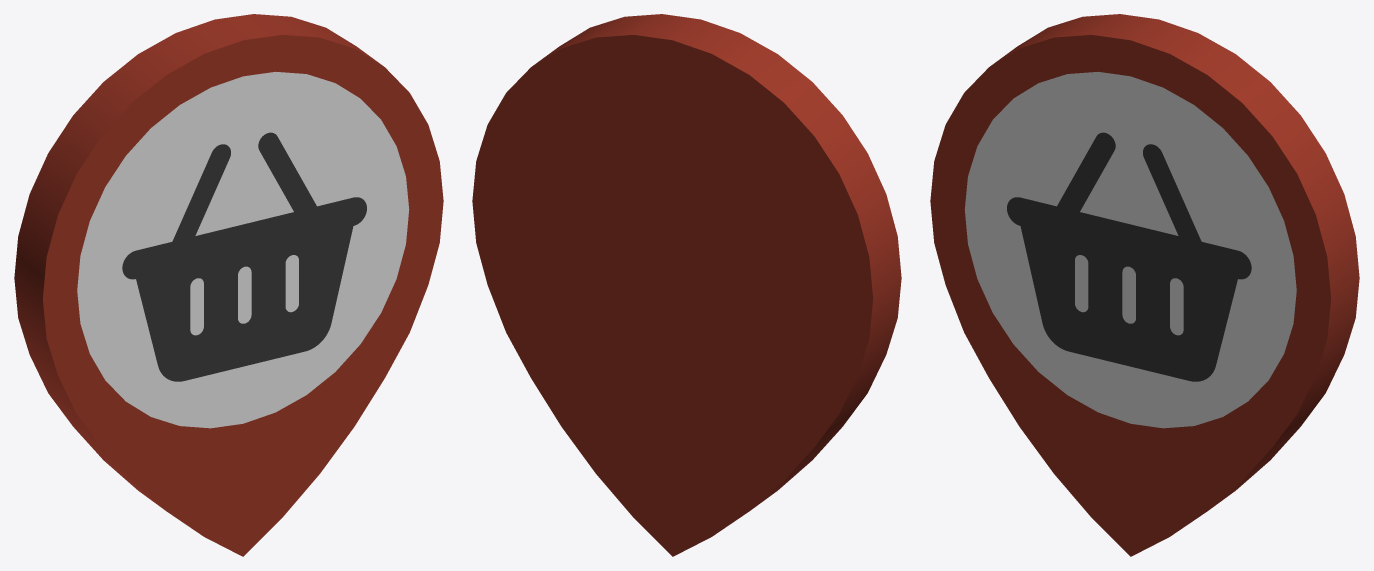
The model's file is x_pin_shopping.glb.
3 views of the same model, side by side, from view 1: azimuth 30°, elevation 25°; view 2: azimuth 150°, elevation 25°; view 3: azimuth 330°, elevation 25° (orthographic).
Parts seen in each view (by area): view 1: x_pin_shopping; view 2: x_pin_shopping; view 3: x_pin_shopping.
Boxes of the visible parts, x1,y1,x2,y2 form: x_pin_shopping: (14, 14, 443, 556); x_pin_shopping: (472, 14, 901, 556); x_pin_shopping: (930, 14, 1359, 556).
Bounding box in the file's own units: 1.73 × 2.13 × 0.2244.
